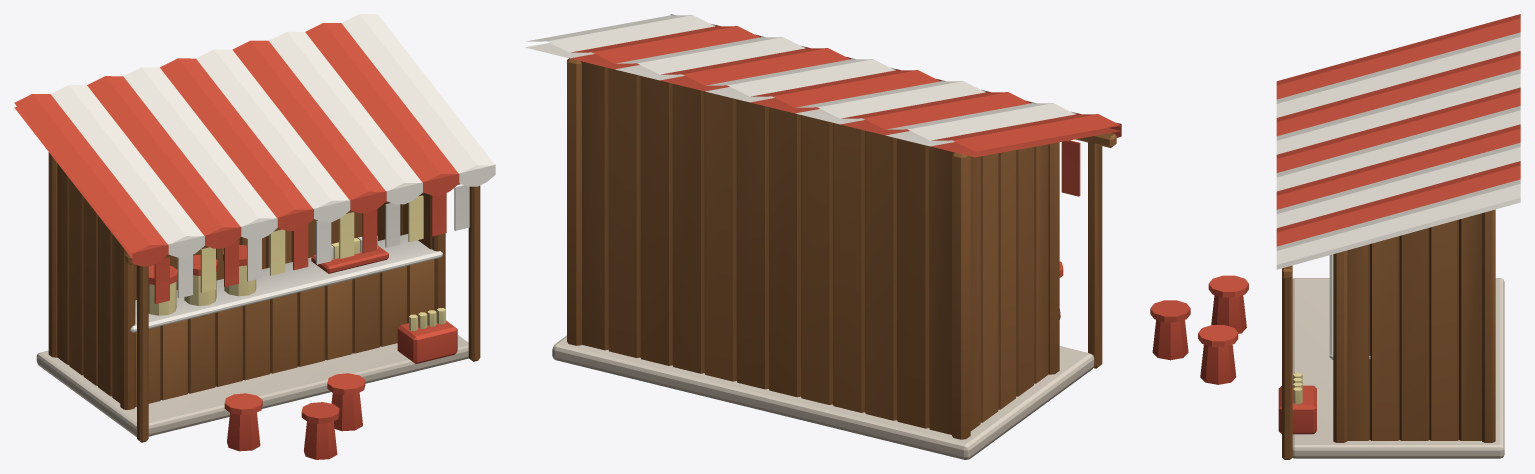
Rendered from warung.glb.
3 renders of one model, left to right at view 1: azimuth 30°, elevation 25°; view 2: azimuth 150°, elevation 25°; view 3: azimuth 270°, elevation 25°, orthographic. The views are drawn at different scales.
Visible parts, largest first — view 1: warung_mesh; view 2: warung_mesh; view 3: warung_mesh.
Part boxes in pixels (box(x1,y1,x2,y2)): warung_mesh: box(14, 14, 495, 459); warung_mesh: box(525, 14, 1121, 459); warung_mesh: box(1150, 14, 1520, 459).
Size of the model in its own units: 4.1 by 2.85 by 3.49.
